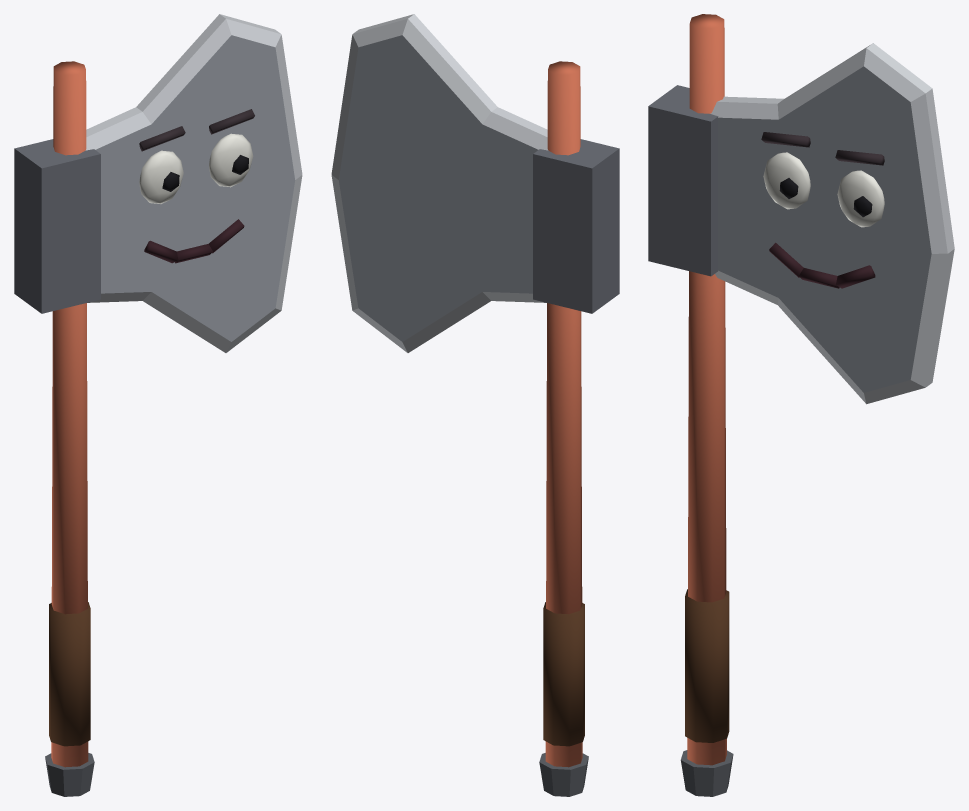
File: lucy_the_axe.glb
3 views of the same model, side by side, from view 1: azimuth 30°, elevation 25°; view 2: azimuth 150°, elevation 25°; view 3: azimuth 330°, elevation 25° (orthographic). The views are drawn at different scales.
Visible parts, largest first — view 1: lucy_the_axe_v0; view 2: lucy_the_axe_v0; view 3: lucy_the_axe_v0.
Part boxes in pixels (x1=…): lucy_the_axe_v0: x1=14, y1=14, x2=302, y2=796; lucy_the_axe_v0: x1=331, y1=14, x2=619, y2=796; lucy_the_axe_v0: x1=648, y1=14, x2=954, y2=796.
Size of the model in its own units: 0.39 by 1.01 by 0.0688.
